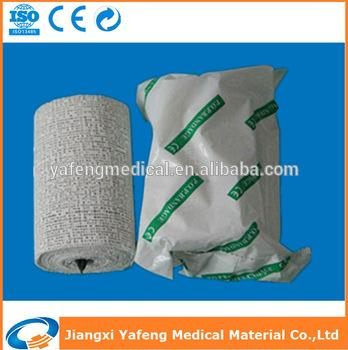bandage: (33, 97, 138, 275)
waste: (136, 67, 308, 283)
